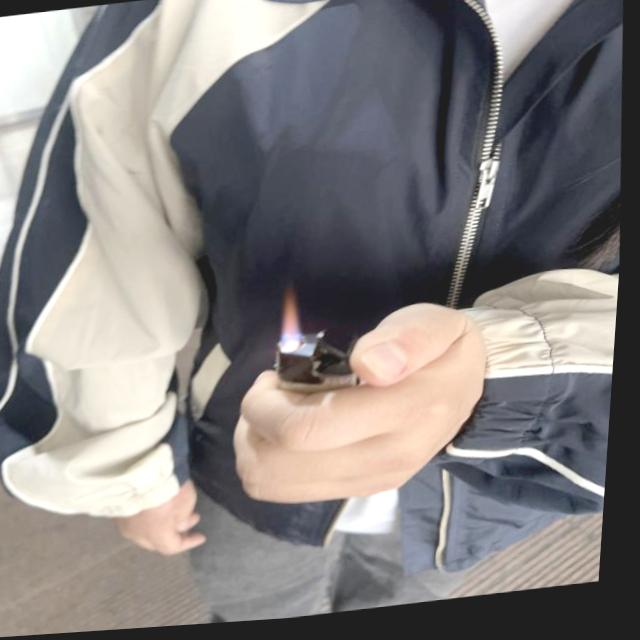Fire: (276, 296, 310, 360)
